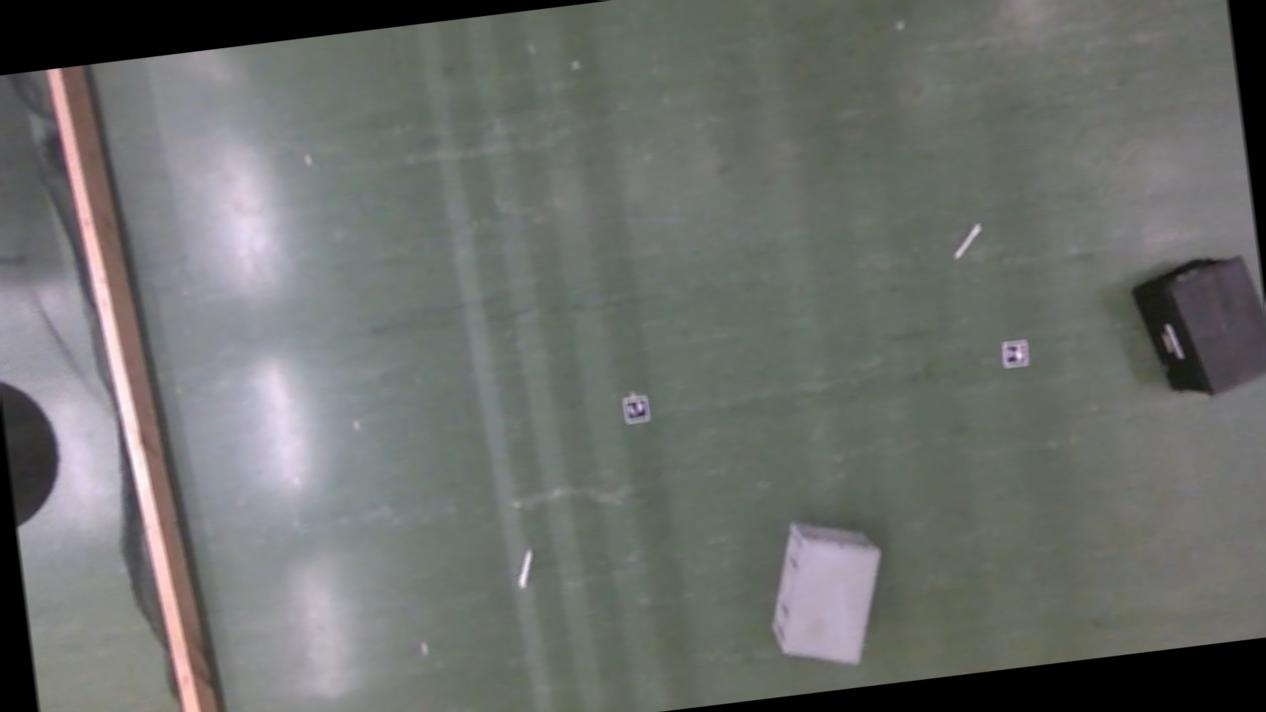probes: (950, 222, 982, 258), (514, 548, 534, 588)
rako: (758, 508, 893, 672), (1127, 250, 1266, 403)
